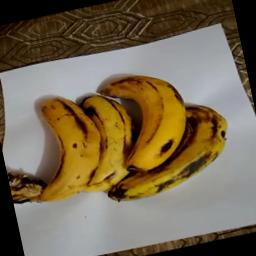Banana Unripe: (14, 56, 240, 220)
